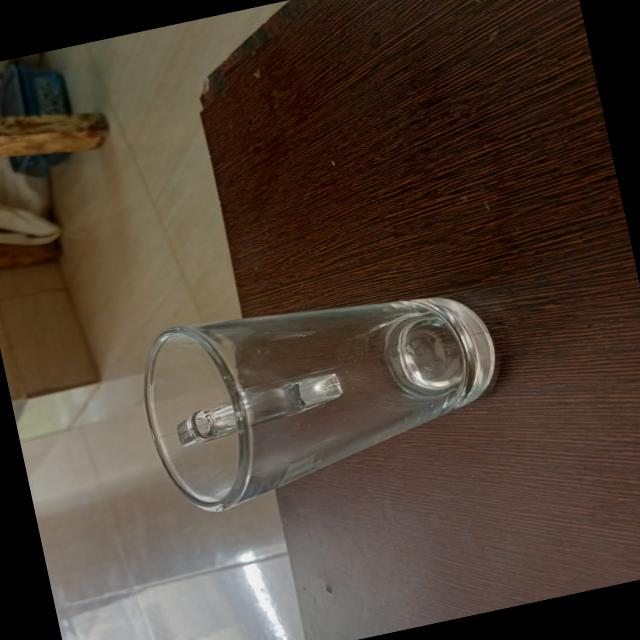glass-VX4N: (122, 264, 522, 529)
